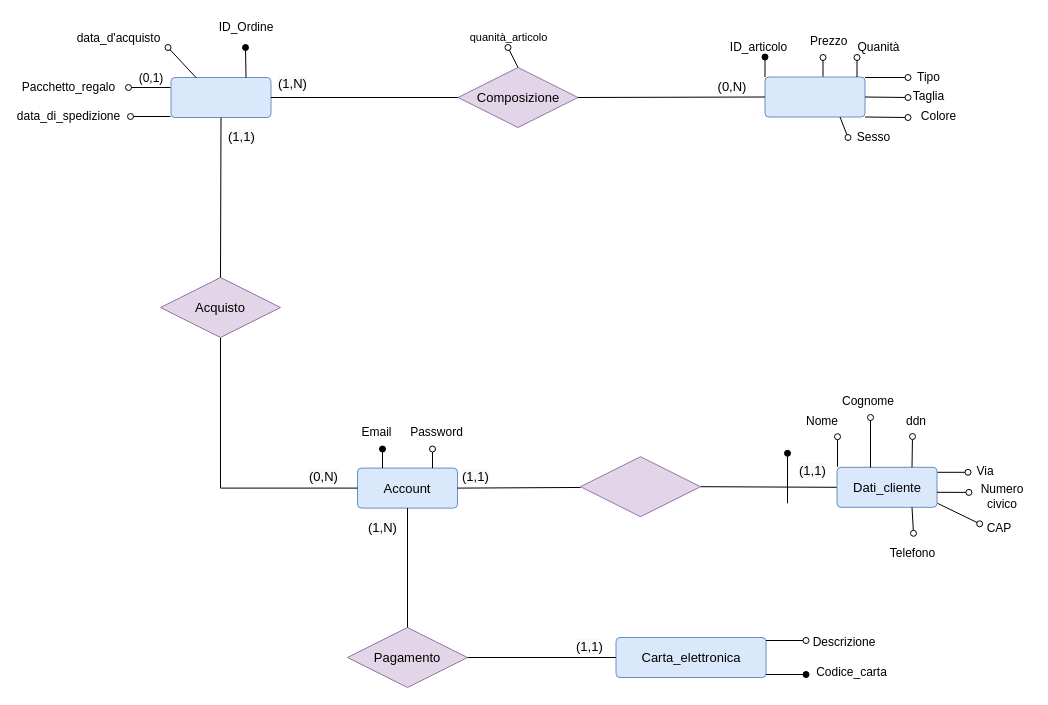
Image size: 1048x705. Some labels were removed from this diagram. The shapes that lost their labels are listed below. From the top down, each one's box as (x1, y1, x2, y2) in pixels, then its label:
(170, 76, 271, 118): Ordine
(764, 76, 865, 117): Articolo
(580, 456, 700, 517): Registrazione
